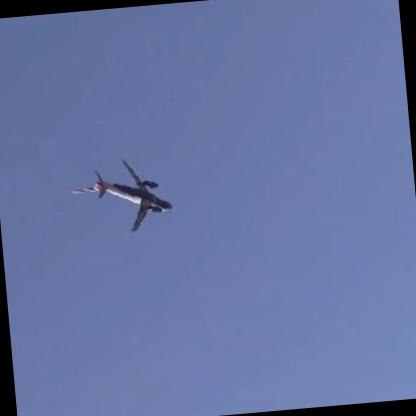plane: (66, 151, 176, 243)
